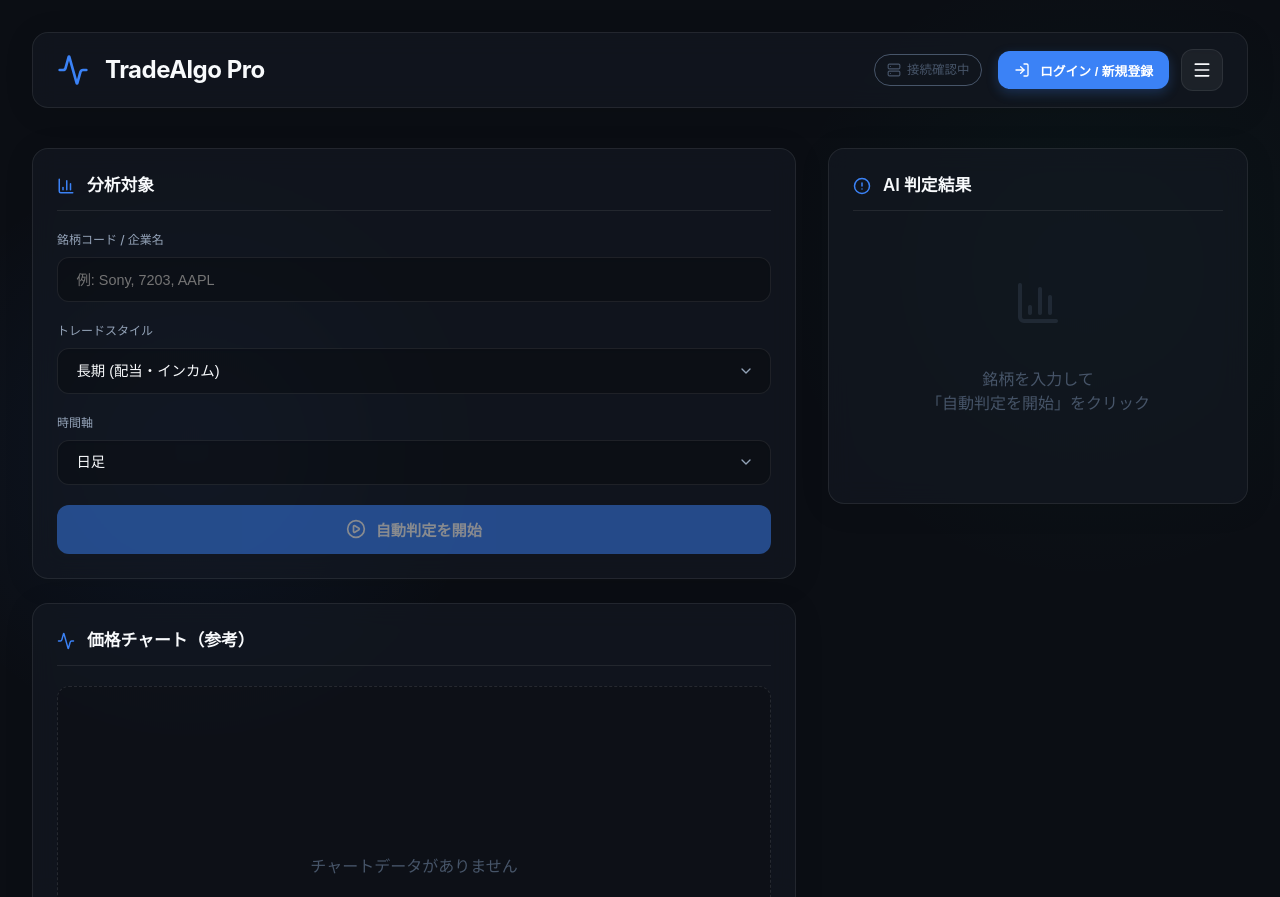
Test case: App Component › starts analysis when button is clicked
Type "AAPL" into the field with placeholder "例: Sony, 7203, AAPL" at (414, 280), box [57,257,771,302]
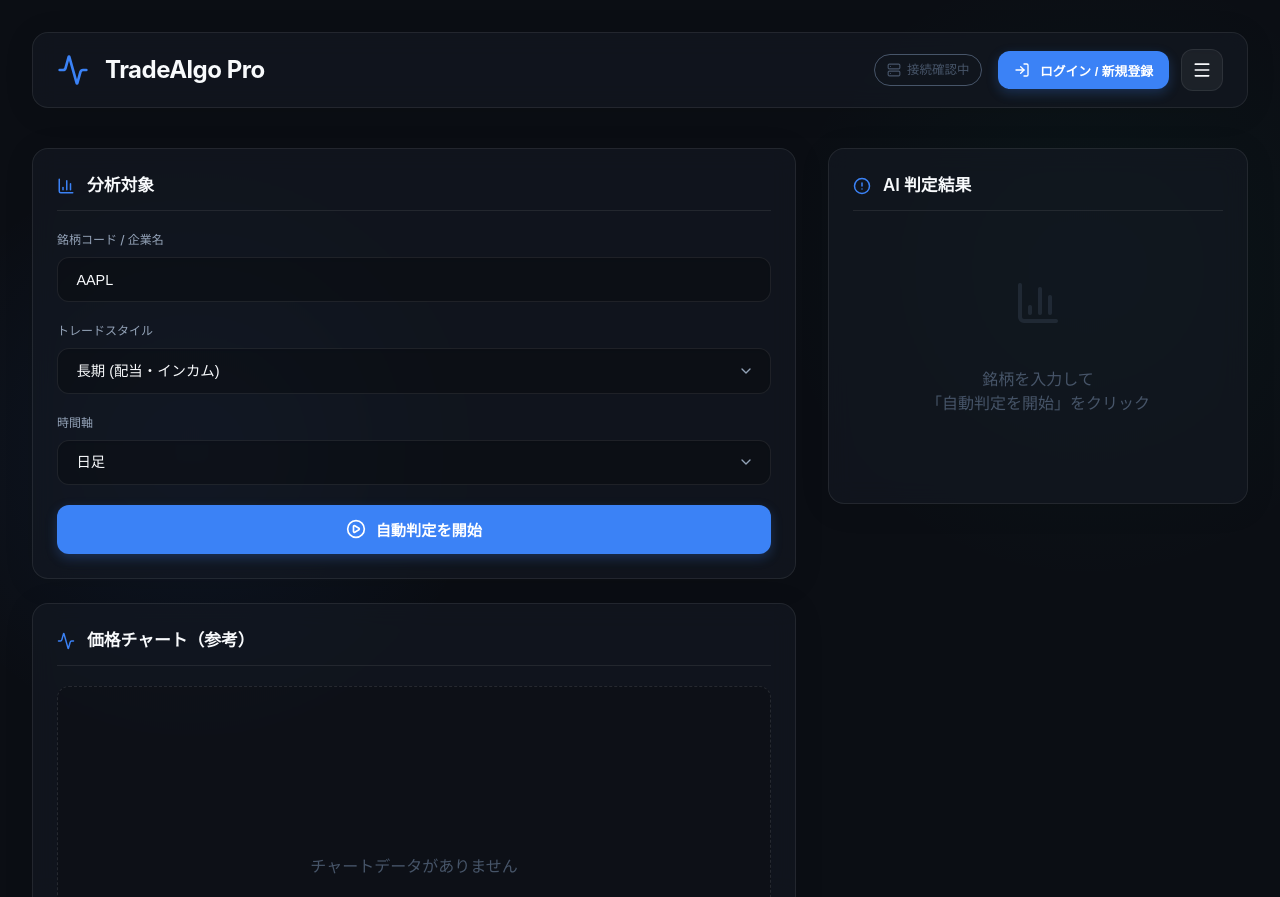
Click the button "自動判定を開始" at (414, 529), box [57,505,771,554]
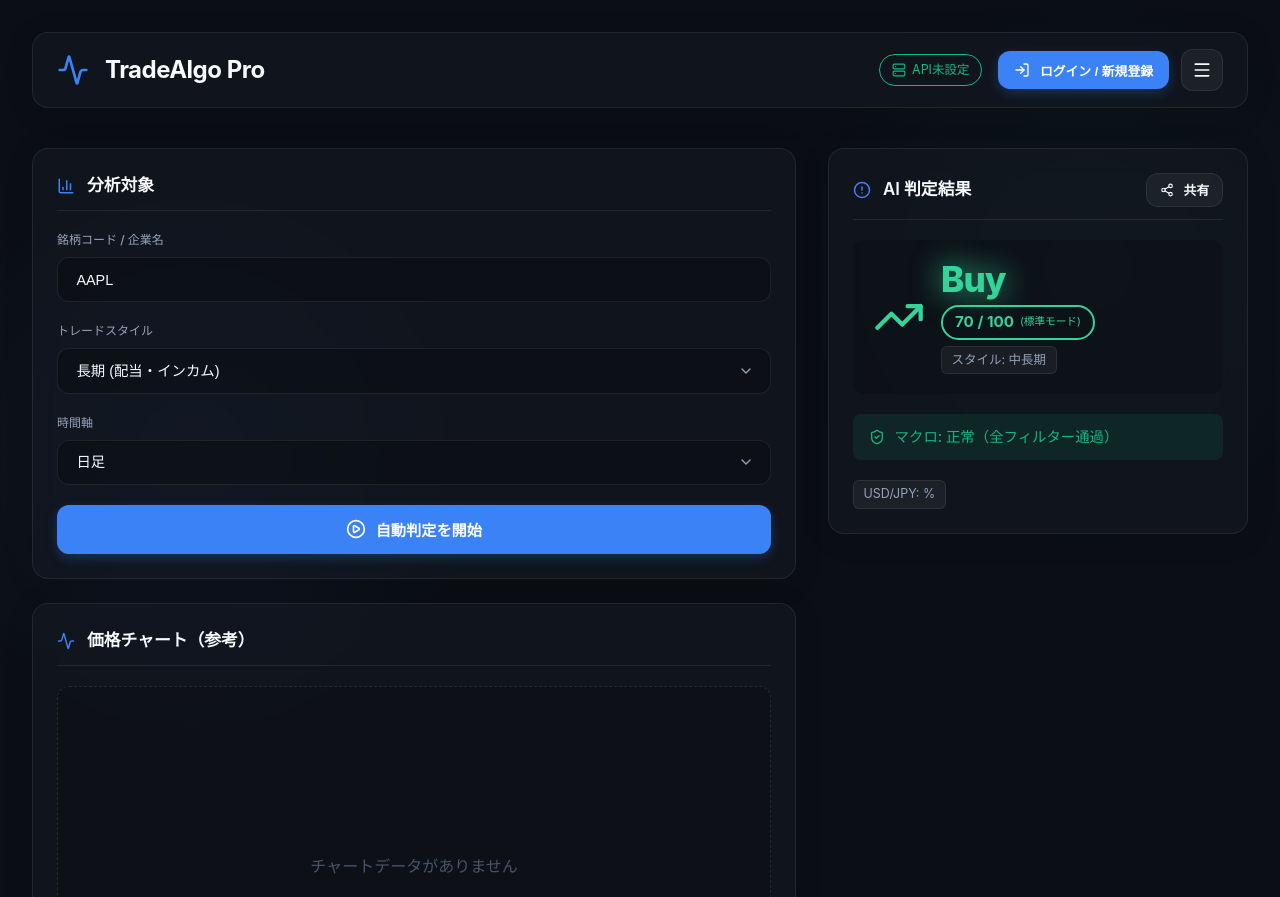
expect the text "Buy" is shown: met, box [941,258,1006,300]
